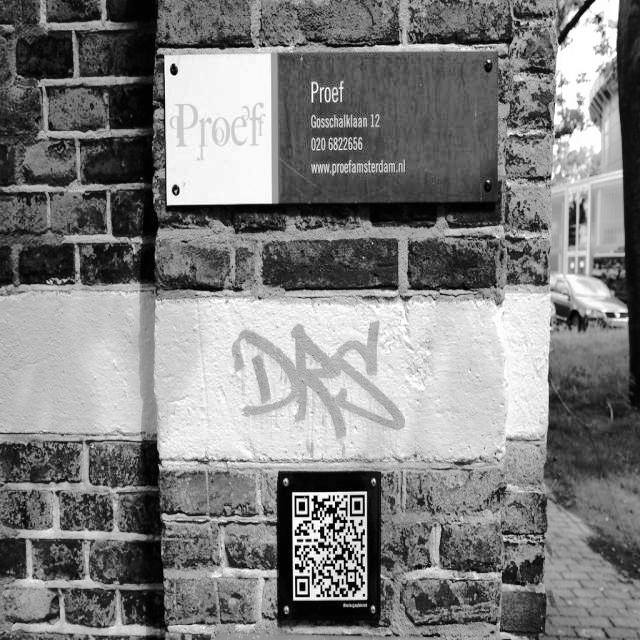qr_code: (295, 495, 365, 596)
